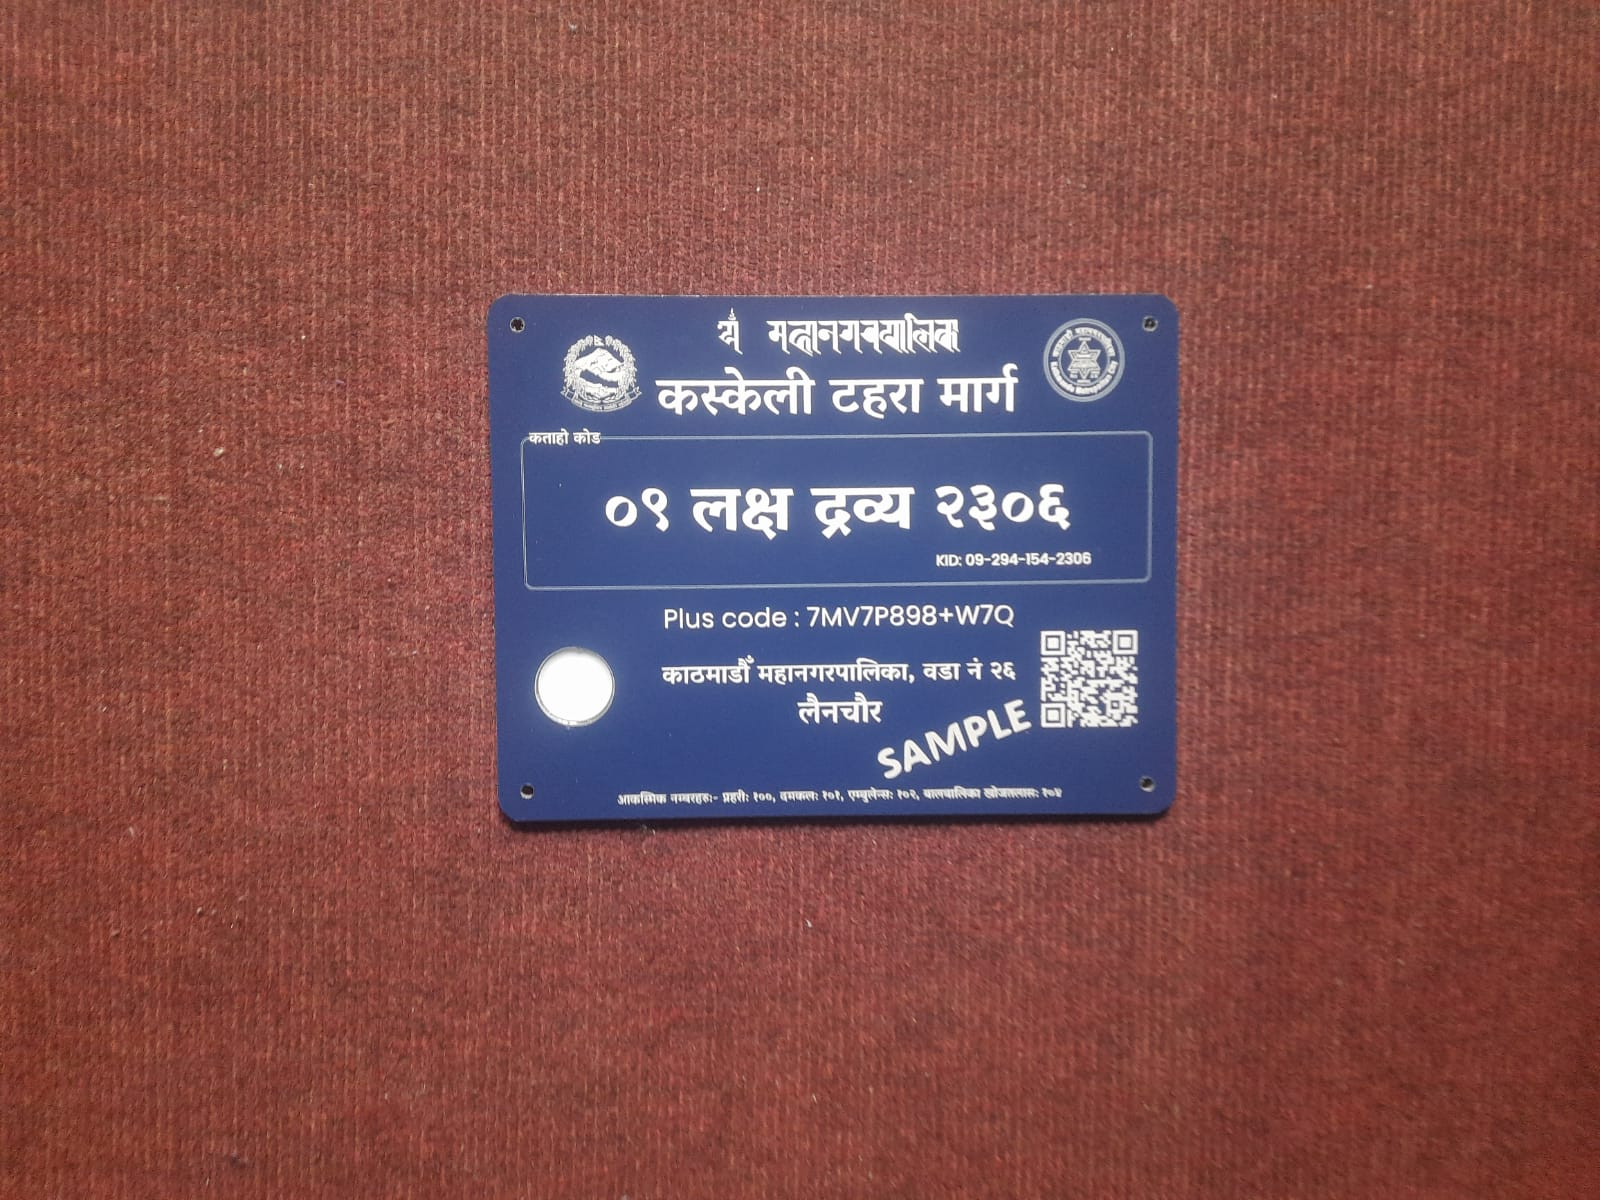Plate: (486, 290, 1185, 827)
